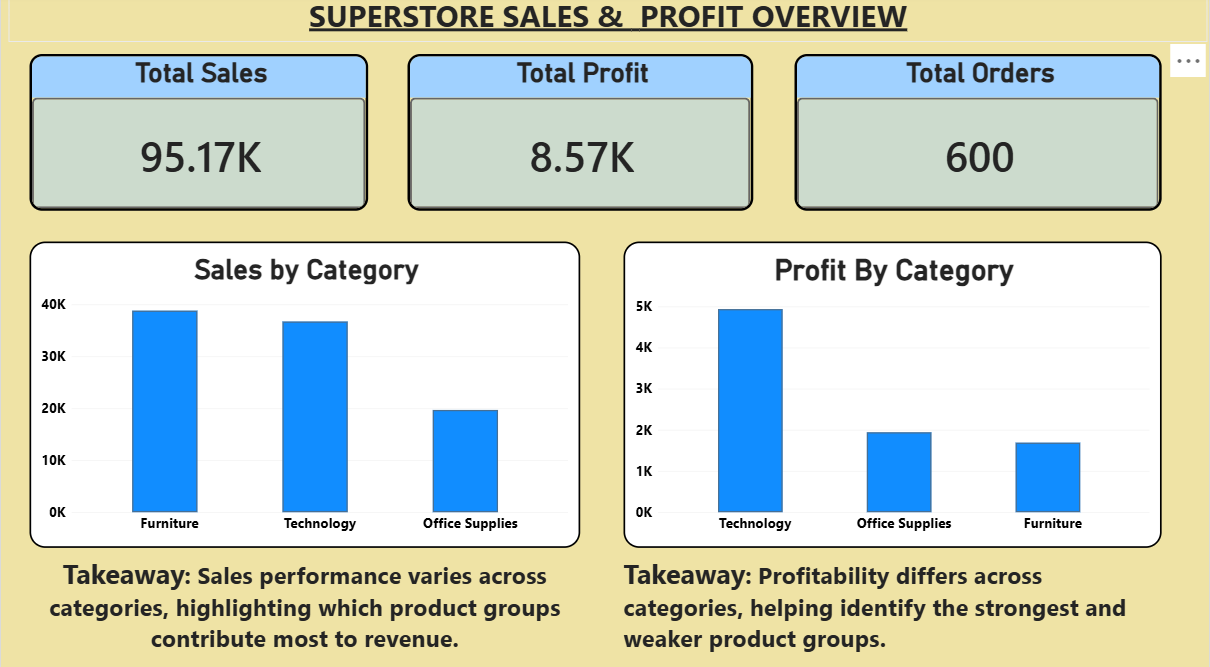

Layout of this report page (visuals, bound fields, positions):
{"tool":"powerbi","page":{"name":"Business Overview","canvas":[1920,1080],"ordinal":0},"visuals":[{"type":"textbox","box":[11.3,0,1907.7,76.5],"z":0},{"type":"cardVisual","title":"Total Sales","fields":{"Data":["Sum(Superstore Data.Sales)"]},"box":[45.4,96.4,538.6,249.5],"z":1000},{"type":"cardVisual","title":"Total Orders","fields":{"Data":["Count(Superstore Data.Order ID)"]},"box":[1261.4,96.4,583.9,249.5],"z":2000},{"type":"cardVisual","title":"Total Profit","fields":{"Data":["Sum(Superstore Data.Profit)"]},"box":[646.3,96.4,549.9,249.5],"z":3000},{"type":"clusteredColumnChart","title":"Sales by Category","fields":{"Category":["Superstore Data.Category"],"Y":["Sum(Superstore Data.Sales)"]},"box":[45.4,394,875.9,487.6],"z":4000},{"type":"clusteredColumnChart","title":"Profit By Category","fields":{"Category":["Superstore Data.Category"],"Y":["Sum(Superstore Data.Profit)"]},"box":[989.3,394,856.1,487.6],"z":5000},{"type":"textbox","box":[45.4,892.9,875.9,187.1],"z":6000},{"type":"textbox","box":[989.3,892.9,856.1,187.1],"z":7000}]}

Visuals, with their boxes in screenshot pixels (x1, y1, x2, y2), scaled from the page's 1920x1080 canvas onto the 1210x667 screenshot:
textbox: detection(7, 0, 1209, 47)
"Total Sales" cardVisual: detection(29, 60, 368, 214)
"Total Orders" cardVisual: detection(795, 60, 1163, 214)
"Total Profit" cardVisual: detection(407, 60, 754, 214)
"Sales by Category" clusteredColumnChart: detection(29, 243, 581, 544)
"Profit By Category" clusteredColumnChart: detection(623, 243, 1163, 544)
textbox: detection(29, 551, 581, 666)
textbox: detection(623, 551, 1163, 666)
